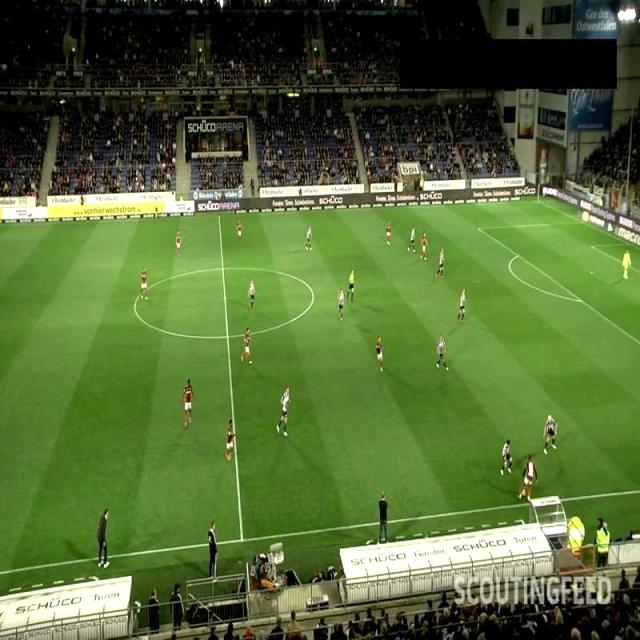bigarea_top_inner: (474, 223, 484, 234)
bigarea_top_outter: (578, 218, 588, 228)
bottom_arc_area_intersection: (576, 296, 586, 306)
corner: (532, 196, 544, 207)
halfcircle_bottom: (222, 330, 232, 340)
halfcircle_top: (217, 262, 228, 272)
midline_bottom_intersection: (233, 534, 251, 547)
midline_top_intersection: (213, 210, 224, 220)
smallarea_top_inner: (586, 242, 598, 252)
smallarea_top_outter: (622, 238, 634, 248)
top_arc_area_intersection: (513, 250, 524, 261)
